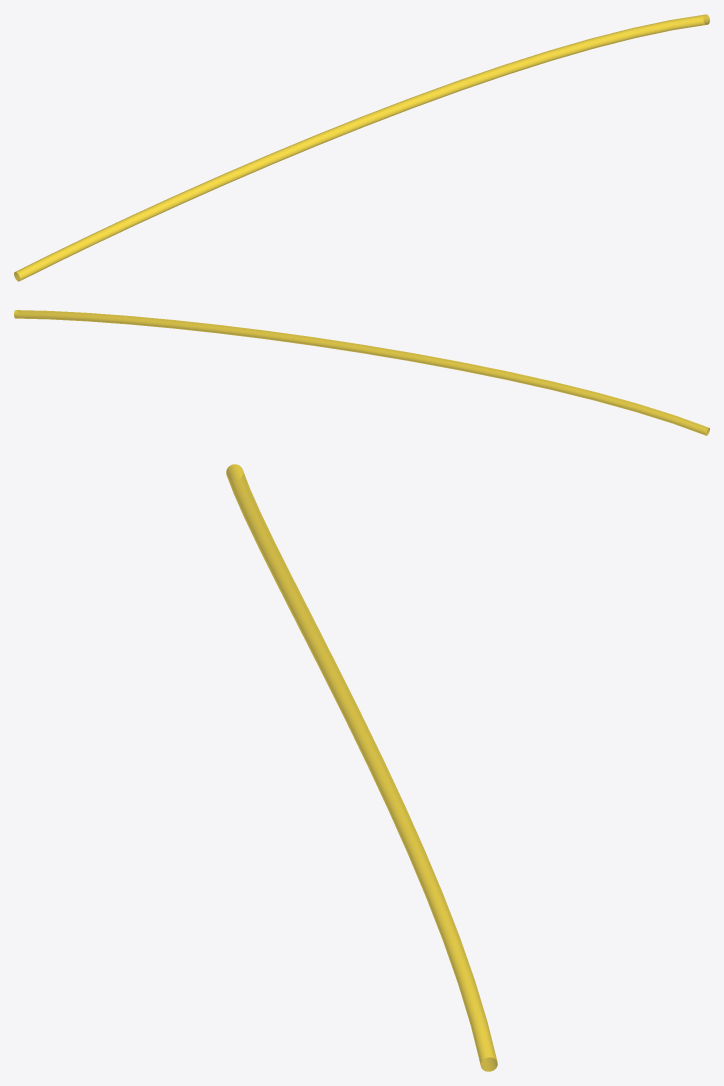
Rendered from Event_75125125_track_89.fbx.
The picture shows the model from 3 angles, top to bottom: view 1: azimuth 30°, elevation 25°; view 2: azimuth 150°, elevation 25°; view 3: azimuth 270°, elevation 25°; orthographic projection. The views are drawn at different scales.
Parts seen in each view (by area): view 1: Model; view 2: Model; view 3: Model.
Part boxes in pixels (bbox=[...]): Model: bbox=[14, 14, 709, 281]; Model: bbox=[14, 310, 709, 435]; Model: bbox=[226, 464, 497, 1071].
Size of the model in its own units: 3.38 by 0.1871 by 0.6302.
